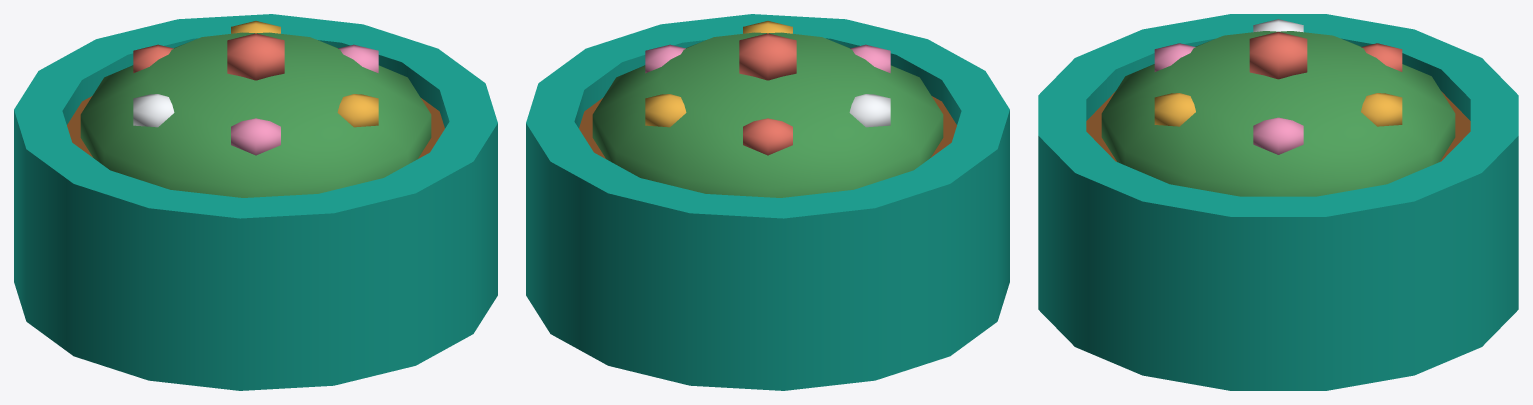
The model's file is CM_Prop_FlowerPlanter.fbx.
3 views of the same model, side by side, from view 1: azimuth 30°, elevation 25°; view 2: azimuth 150°, elevation 25°; view 3: azimuth 270°, elevation 25° (orthographic).
Parts seen in each view (by area): view 1: Body; view 2: Body; view 3: Body.
Part boxes in pixels (x1,y1,x2,y2): Body: (14,14,497,390); Body: (526,14,1009,390); Body: (1038,14,1518,390).
Size of the model in its own units: 4 by 4 by 2.33.
1 material, 1 textured.
